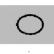no answer: (15, 12, 45, 36)
